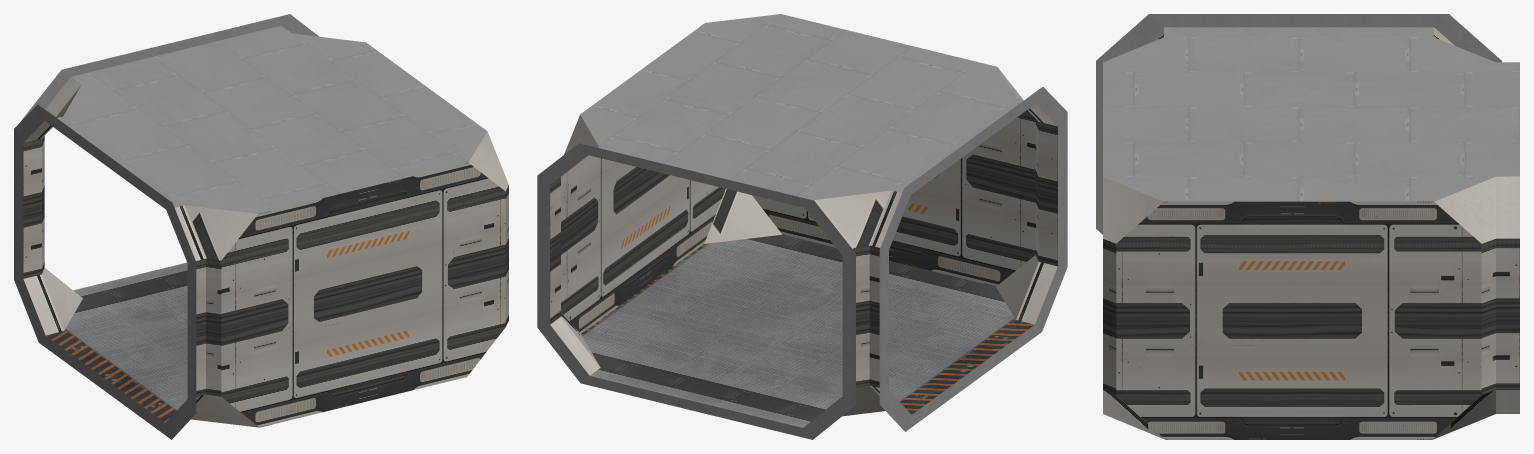
The model's file is lab_right_corner.FBX.
3 views of the same model, side by side, from view 1: azimuth 30°, elevation 25°; view 2: azimuth 150°, elevation 25°; view 3: azimuth 270°, elevation 25° (orthographic). The views are drawn at different scales.
Visible parts, largest first — view 1: LeftCorner; view 2: LeftCorner; view 3: LeftCorner.
Boxes of the visible parts, x1,y1,x2,y2 form: LeftCorner: (14, 14, 508, 439); LeftCorner: (537, 14, 1067, 439); LeftCorner: (1096, 14, 1519, 439).
Bounding box in the file's own units: 2.78 × 1.94 × 2.82.
